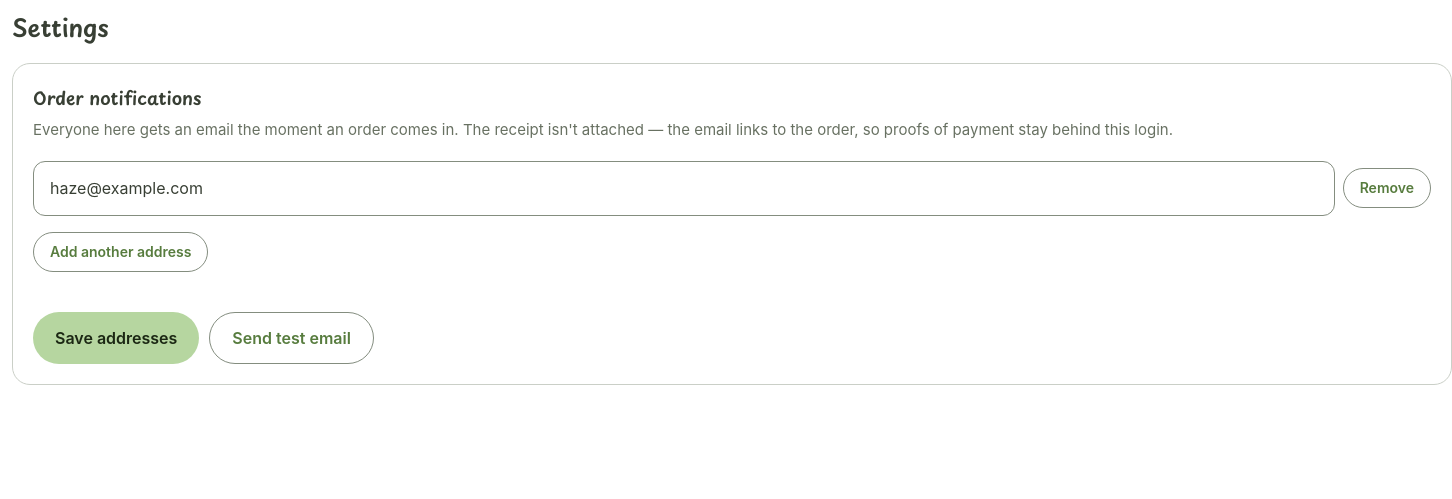
it: the test email › won't test against addresses that haven't been saved yet
Expected: the field showing "haze@example.com" is shown, [33, 161, 1335, 216]
Click the button "Add another address". click: (121, 252)
box: [33, 232, 208, 272]
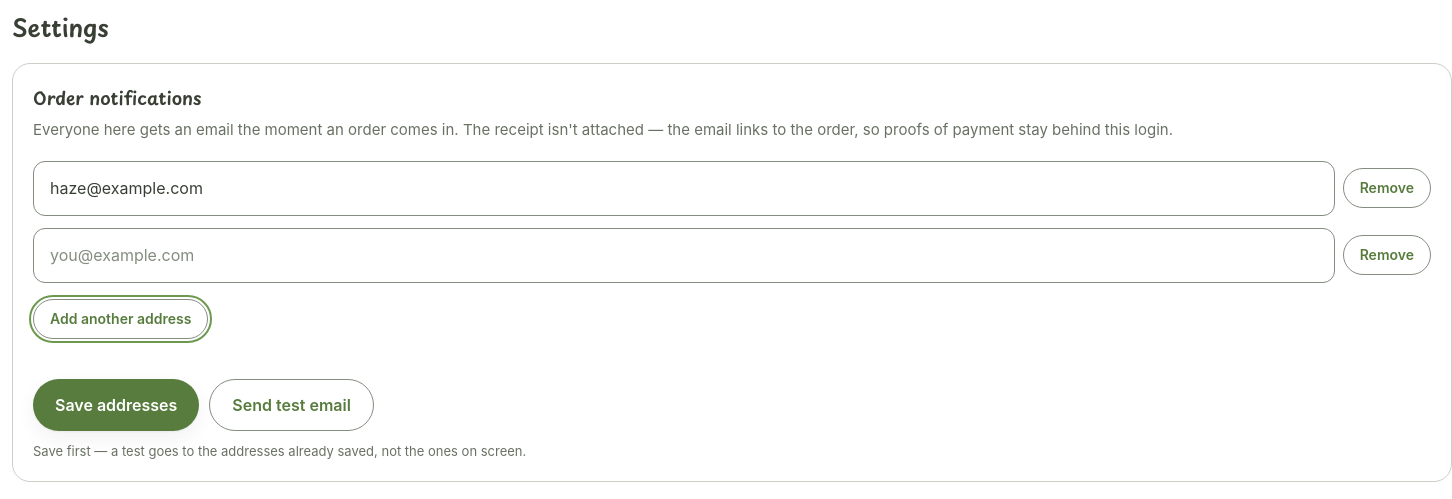
Result: the button "Send test email" is disabled at [209, 379, 374, 431]
Type "helper@example.com" into the field named "email address 2". click: (684, 256)
box: [33, 228, 1335, 283]
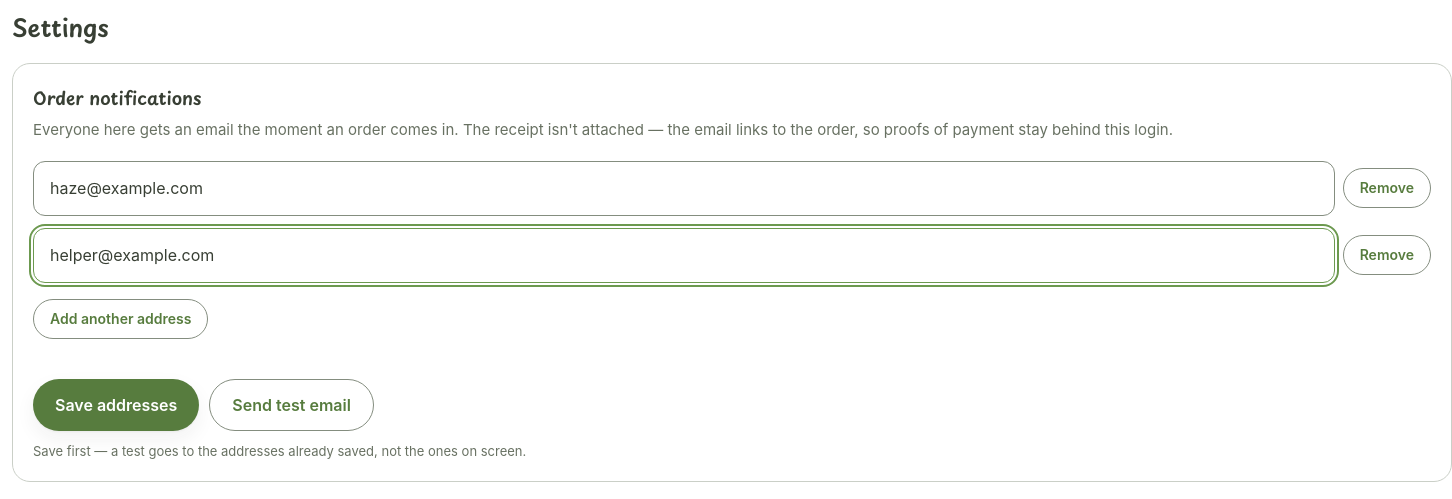
Click the button "Save addresses". click: (116, 405)
box: [33, 379, 199, 431]
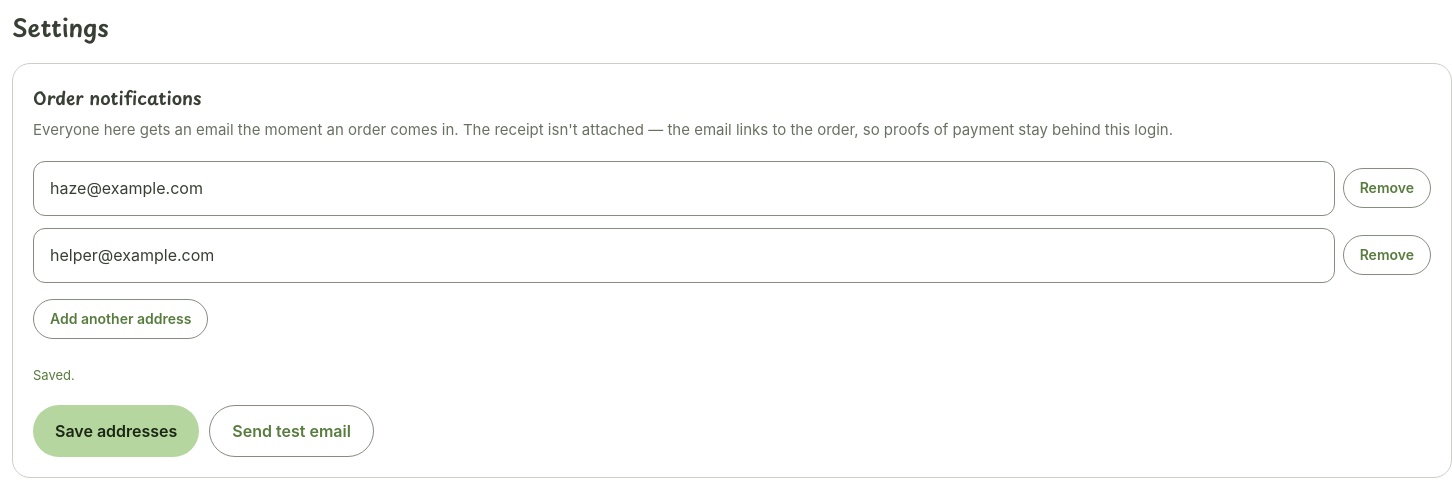
Result: the button "Send test email" is enabled at [209, 405, 374, 457]
